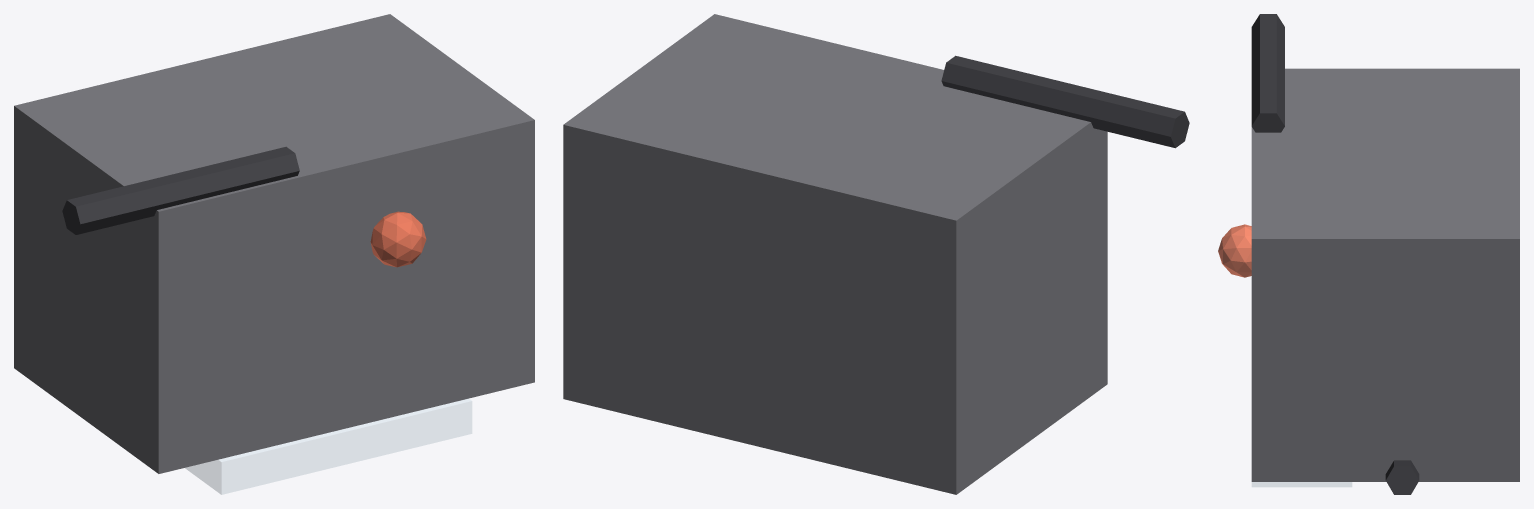
The model's file is quest_broken_device.glb.
3 views of the same model, side by side, from view 1: azimuth 30°, elevation 25°; view 2: azimuth 150°, elevation 25°; view 3: azimuth 270°, elevation 25° (orthographic). The views are drawn at different scales.
Parts seen in each view (by area): view 1: body, screen, cable_1, spark; view 2: body, cable_1; view 3: body, cable_1, spark, cable_2, screen.
Part boxes in pixels (x1,y1,x2,y2): body: [14, 14, 534, 473]; screen: [185, 399, 471, 494]; cable_1: [62, 146, 299, 234]; spark: [370, 211, 426, 267]; body: [563, 14, 1107, 494]; cable_1: [941, 55, 1189, 148]; body: [1251, 68, 1519, 481]; cable_1: [1251, 14, 1284, 132]; spark: [1218, 224, 1251, 277]; cable_2: [1385, 460, 1419, 494]; screen: [1252, 482, 1351, 486].
Size of the model in its own units: 1.6 by 1.01 by 0.9.
